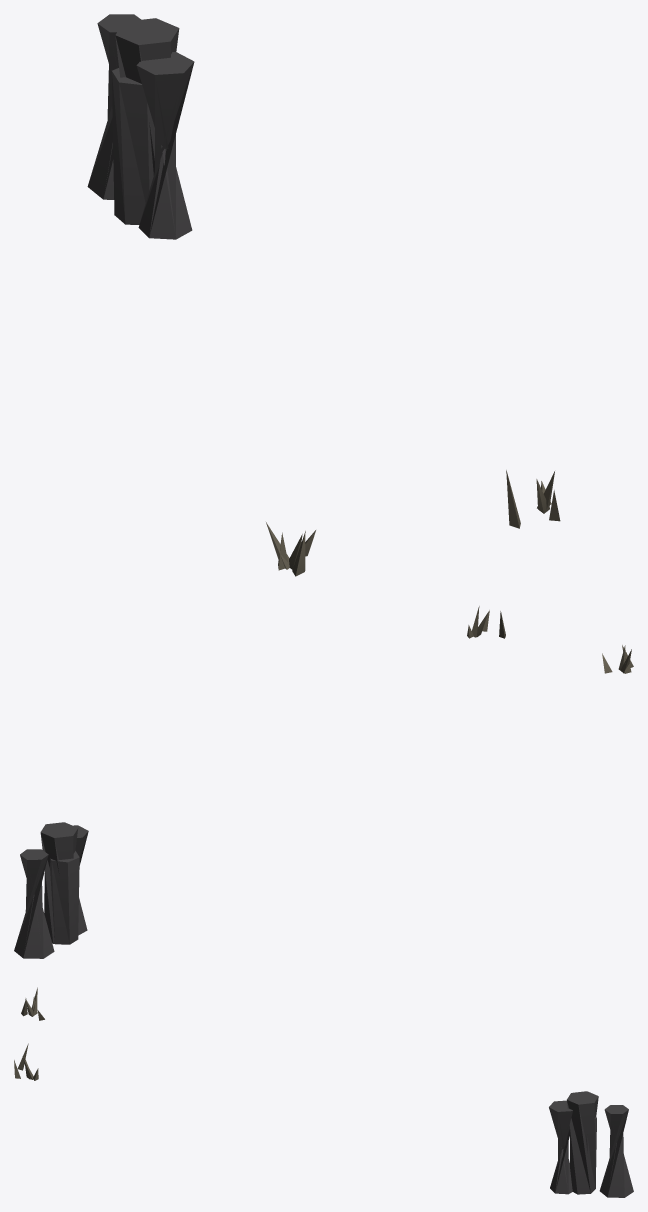
Rendered from ash_land_scatter_c25_27.glb.
3 views of the same model, one above another, from view 1: azimuth 30°, elevation 25°; view 2: azimuth 150°, elevation 25°; view 3: azimuth 270°, elevation 25° (orthographic). The views are drawn at different scales.
Visible parts, largest first — view 1: ash_land_scatter_c25_27; view 2: ash_land_scatter_c25_27; view 3: ash_land_scatter_c25_27.
Boxes of the visible parts, x1,y1,x2,y2 form: ash_land_scatter_c25_27: (87, 14, 560, 576); ash_land_scatter_c25_27: (14, 606, 633, 958); ash_land_scatter_c25_27: (14, 987, 633, 1197).
Bounding box in the file's own units: 6.79 × 2.79 × 15.78.
